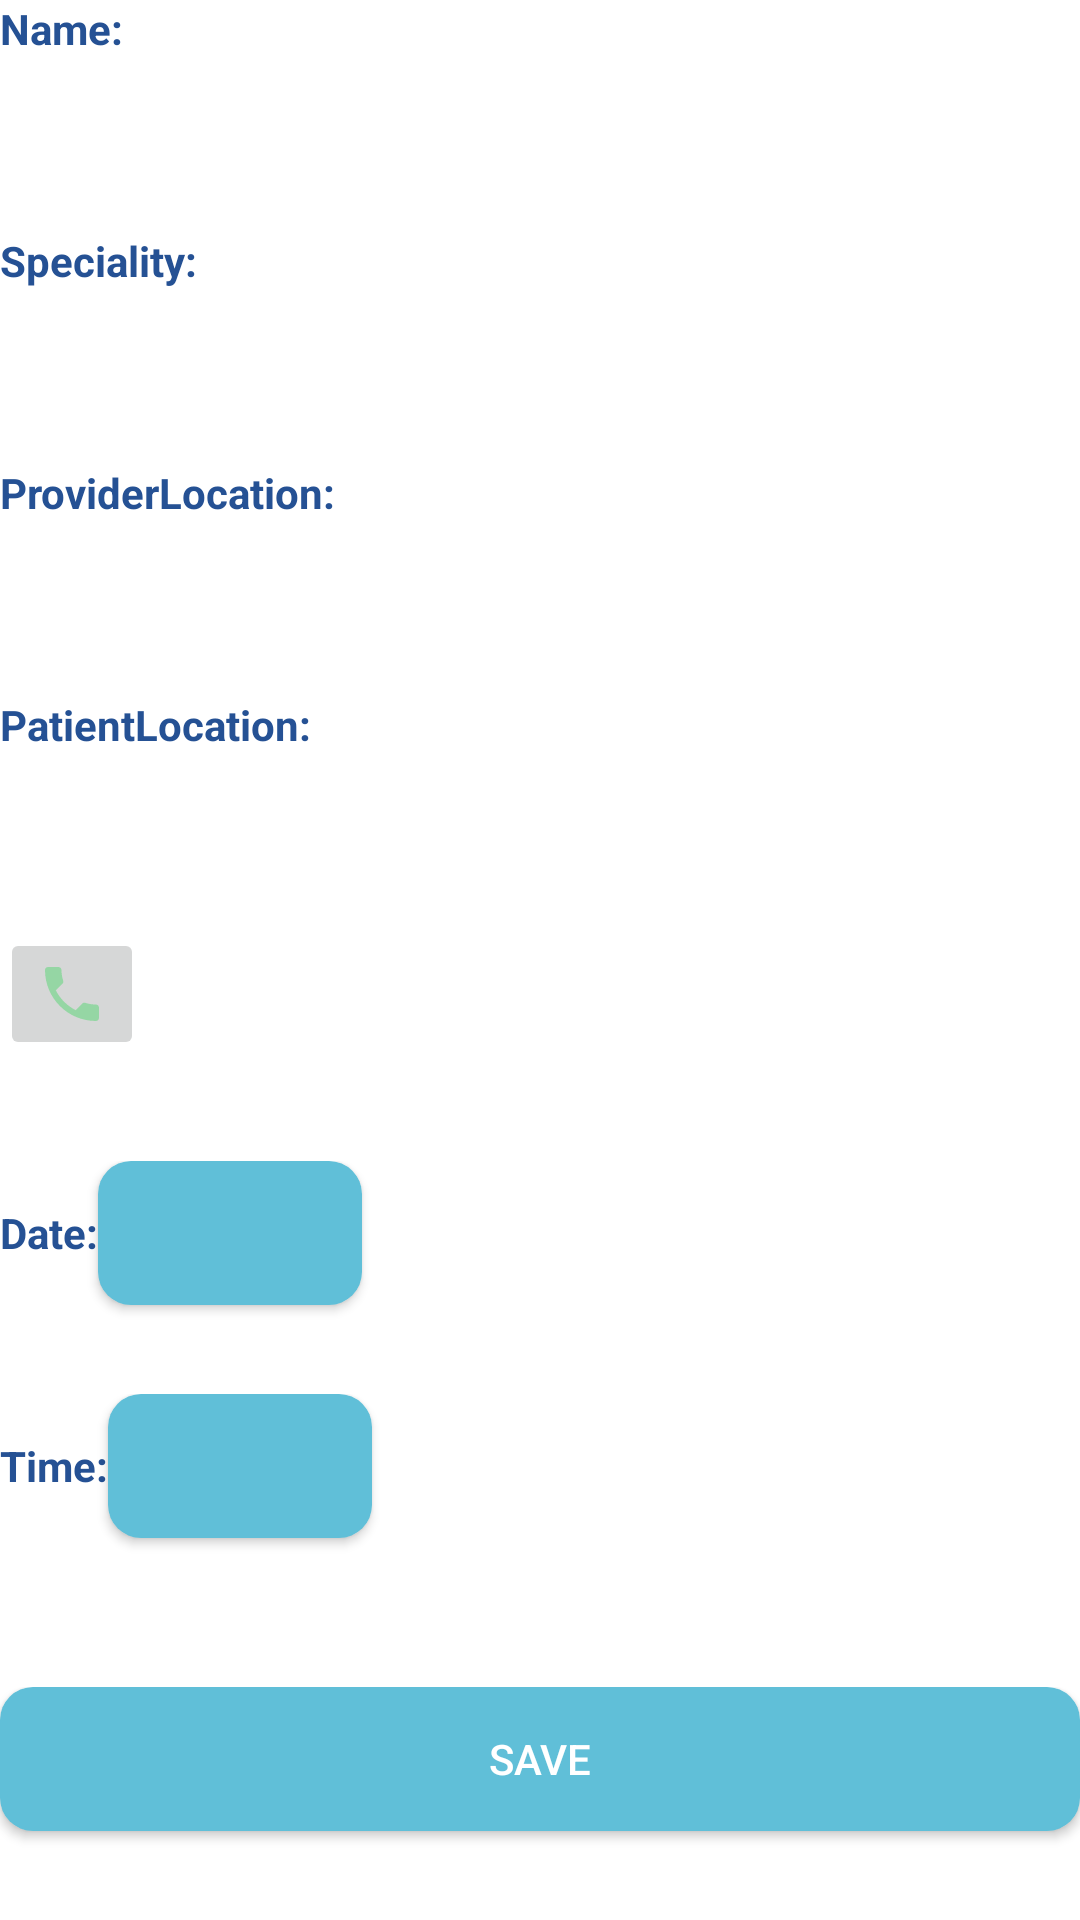

Screen size 1080px x 1920px. Icon name, then its center in pixels as [x,y]:
phone: [72,994]
